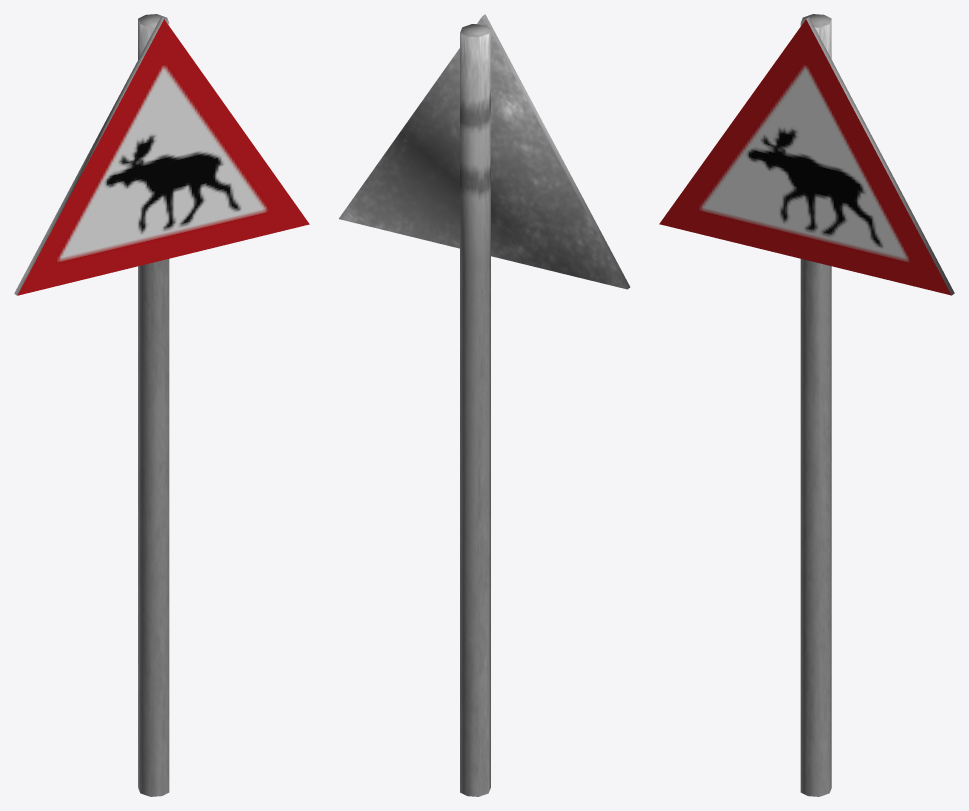
File: ElgSkilt.glb
3 renders of one model, left to right at view 1: azimuth 30°, elevation 25°; view 2: azimuth 150°, elevation 25°; view 3: azimuth 330°, elevation 25°, orthographic.
Visible parts, largest first — view 1: ElgSkilt; view 2: ElgSkilt; view 3: ElgSkilt.
Boxes of the visible parts, x1=… form: ElgSkilt: x1=14, y1=14, x2=309, y2=796; ElgSkilt: x1=339, y1=14, x2=630, y2=796; ElgSkilt: x1=659, y1=14, x2=954, y2=796.
Bounding box in the file's own units: 6.73 × 17.12 × 0.7342.
Materials: 1 (1 with a texture image).
